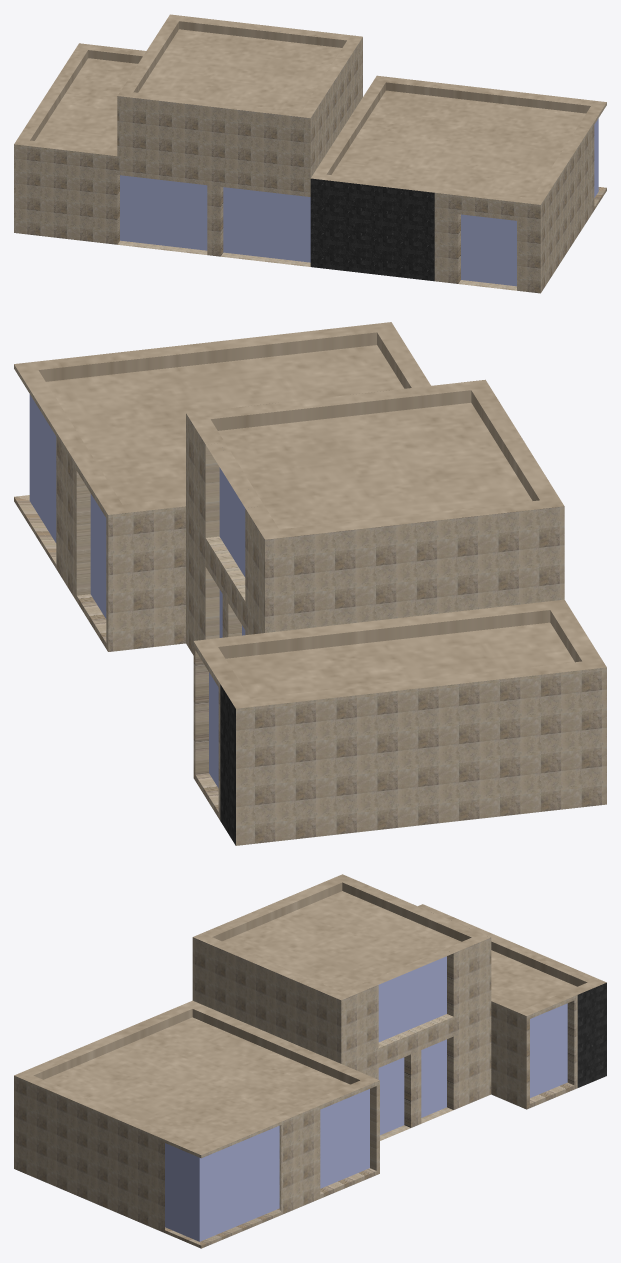
The picture shows the model from 3 angles, top to bottom: view 1: azimuth 30°, elevation 25°; view 2: azimuth 150°, elevation 25°; view 3: azimuth 270°, elevation 25°; orthographic projection. The views are drawn at different scales.
Parts seen in each view (by area): view 1: Cube.010; view 2: Cube.010; view 3: Cube.010.
Boxes of the visible parts, x1,y1,x2,y2 form: Cube.010: [14, 14, 606, 293]; Cube.010: [14, 322, 606, 845]; Cube.010: [14, 874, 606, 1248].
Bounding box in the file's own units: 33.07 × 9.63 × 32.99.
4 materials, 3 textured.
